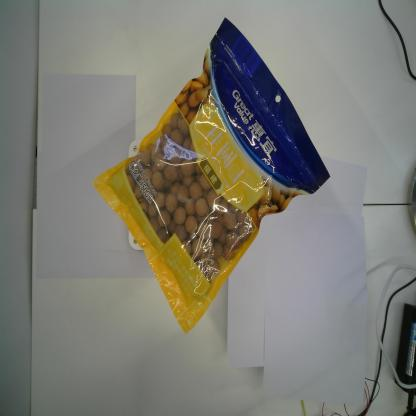Dried Food: (92, 17, 332, 335)
